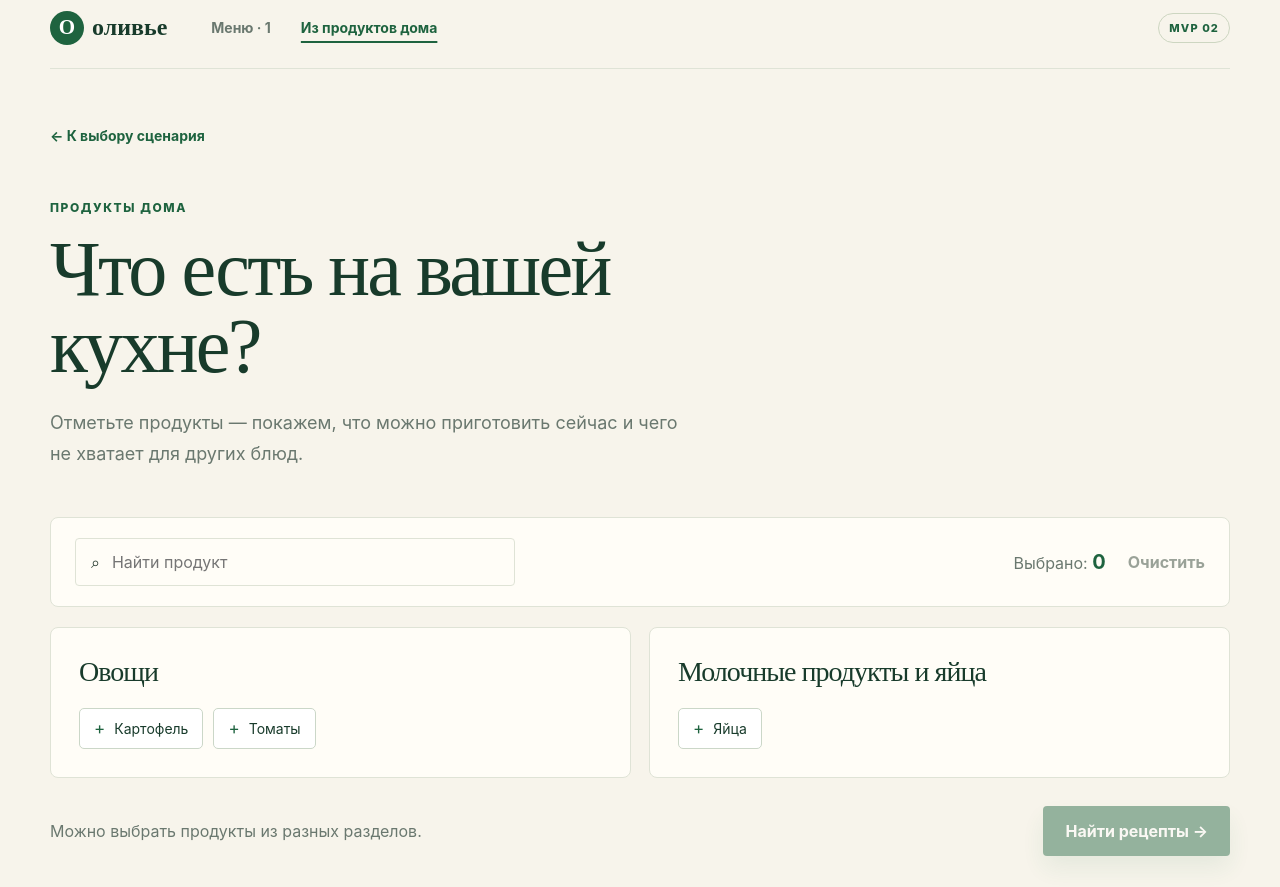
Test: App › показывает ошибку подбора и повторяет запрос без потери выбора
Click the button "+ Картофель" at (141, 729), box [79, 708, 203, 749]
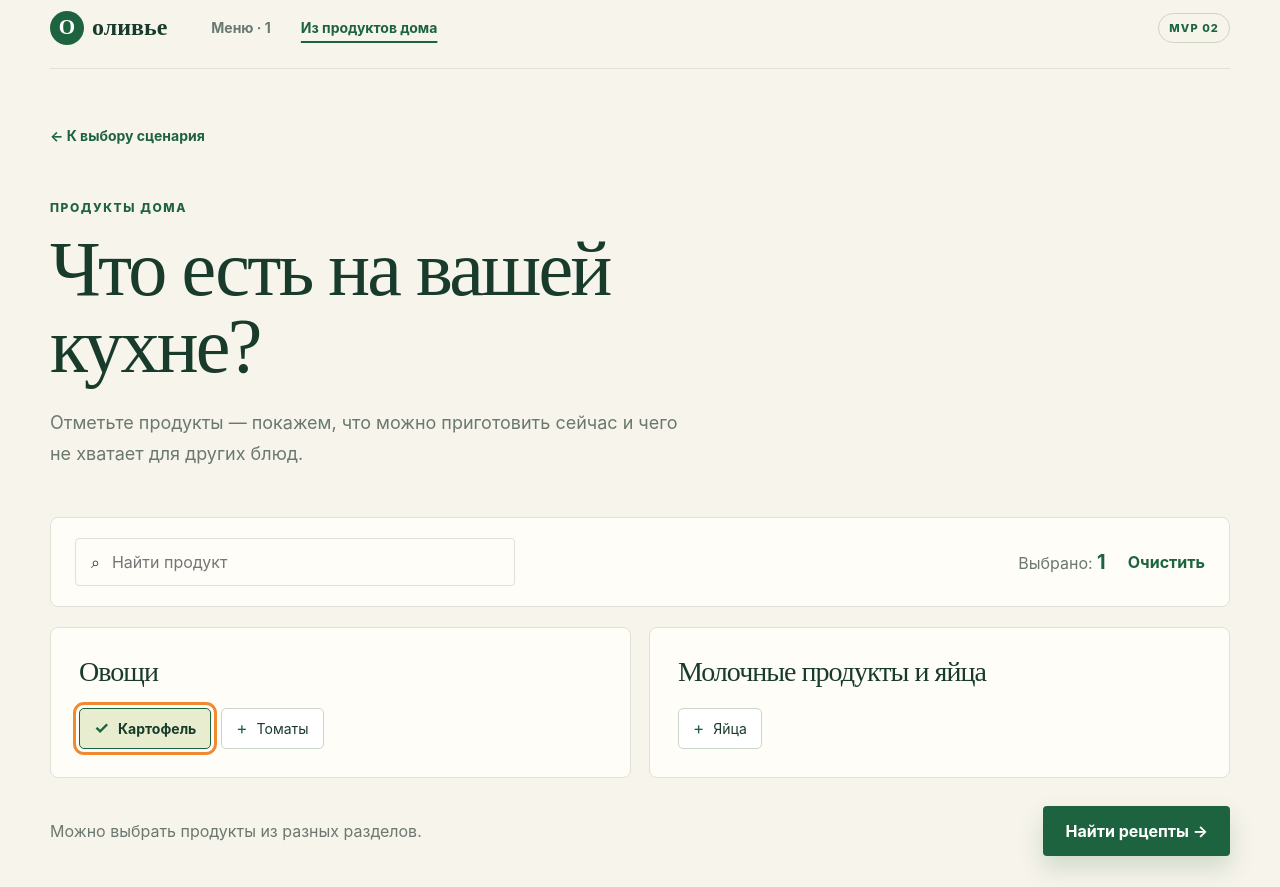
Click the button "Найти рецепты →" at (1137, 831), box [1043, 806, 1230, 856]
(page scrolled)
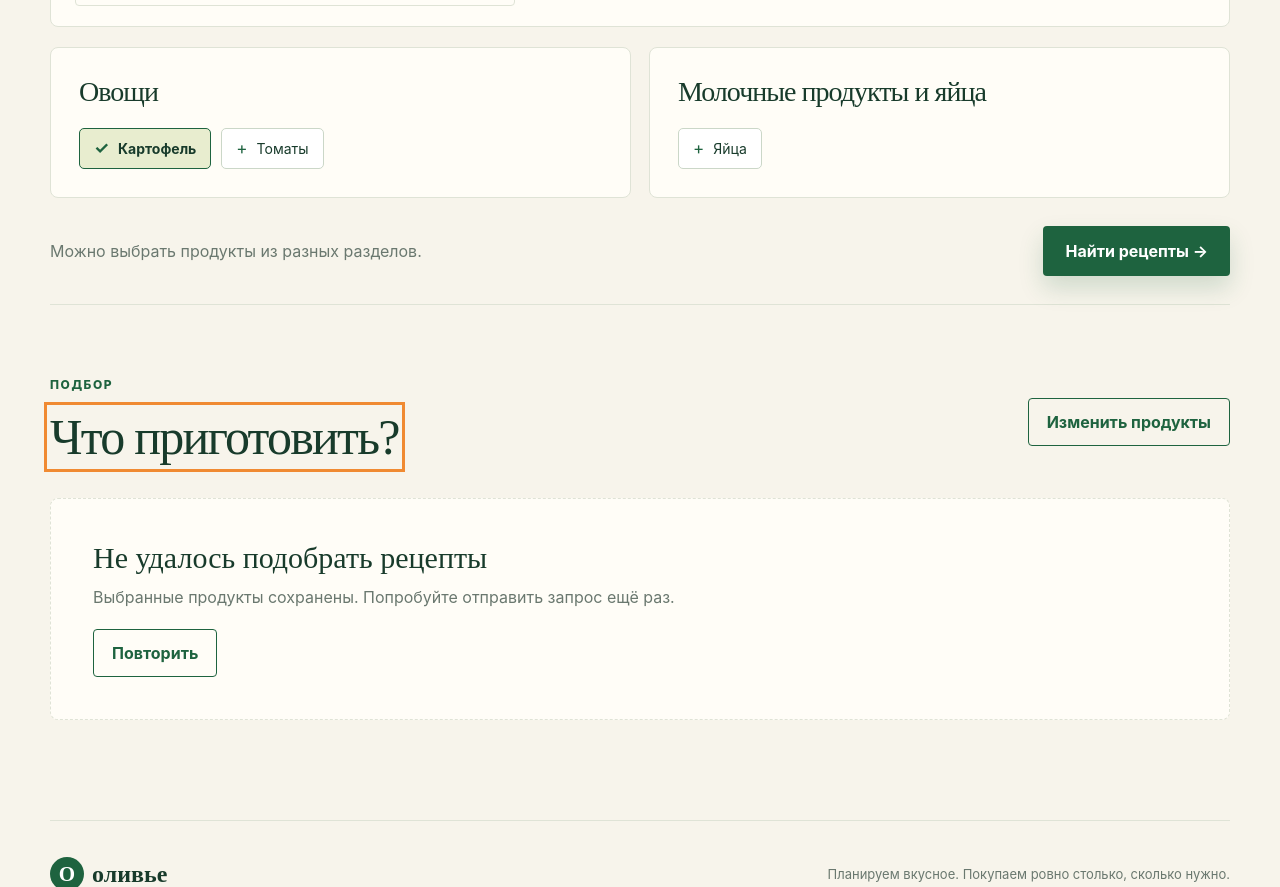
Expected: the message that starts with "Не удалось подобрать рецепты" is shown, [93, 541, 487, 574]
Click the button "Повторить" at (155, 653), box [93, 629, 217, 677]
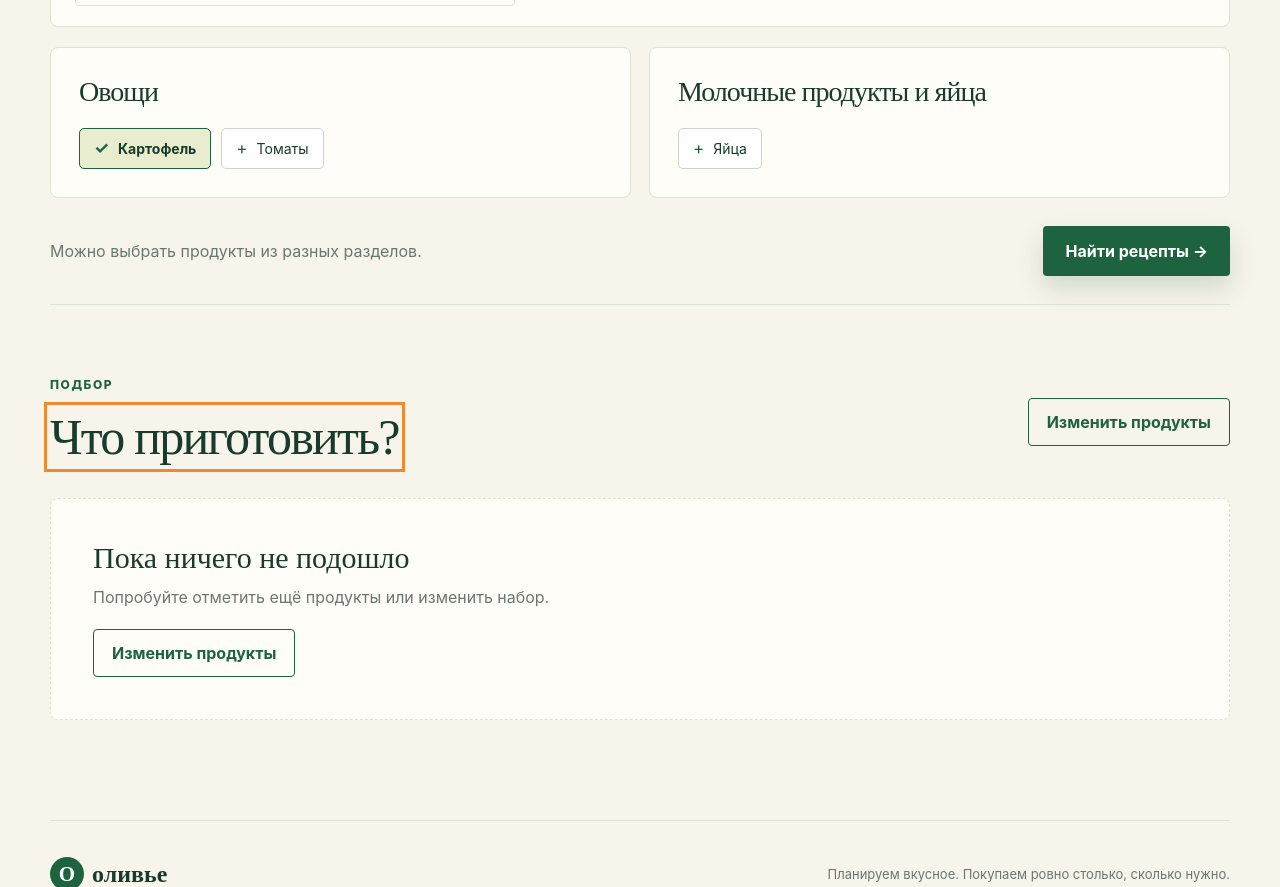
Expected: the heading "Пока ничего не подошло" is shown, [93, 541, 410, 574]
